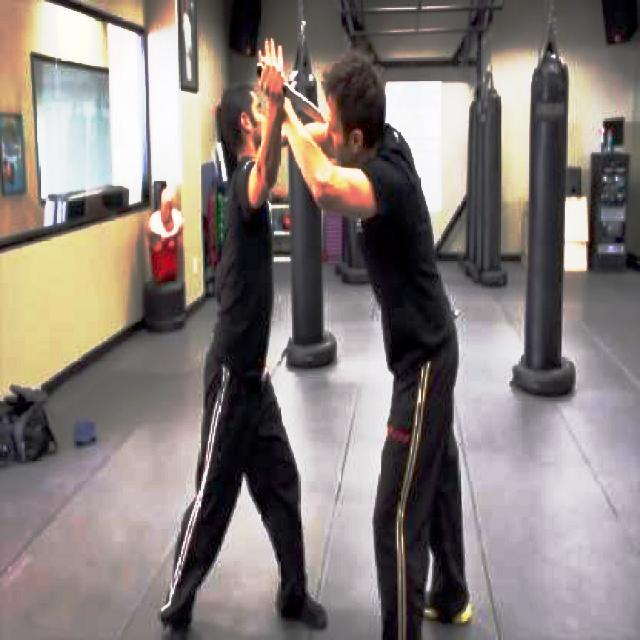Knife: (253, 67, 327, 123)
